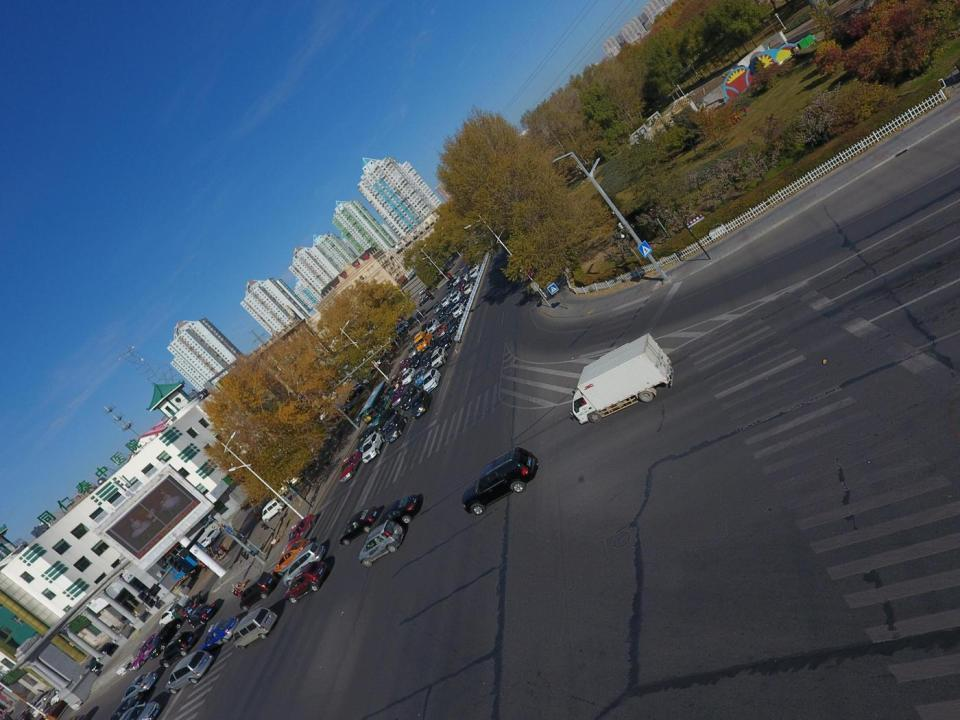bus: (359, 381, 396, 427), (414, 331, 432, 354)
car: (462, 447, 539, 516), (359, 520, 406, 567), (284, 562, 328, 604), (375, 495, 421, 534), (200, 617, 240, 654), (148, 618, 183, 660), (340, 507, 379, 544), (159, 630, 198, 667), (274, 538, 309, 576), (119, 672, 158, 703), (130, 634, 162, 671), (285, 514, 318, 548), (107, 695, 145, 720), (89, 642, 117, 675), (118, 701, 162, 720), (339, 451, 363, 483), (410, 390, 433, 420), (385, 412, 406, 444), (363, 433, 384, 464), (189, 603, 216, 627), (33, 690, 57, 716), (355, 426, 375, 454), (200, 526, 225, 548), (421, 367, 442, 393), (159, 603, 181, 627), (183, 593, 204, 618), (365, 344, 391, 364), (378, 408, 398, 433), (400, 385, 420, 410), (309, 432, 335, 451), (330, 403, 354, 423), (51, 682, 70, 704), (430, 346, 448, 368), (344, 384, 364, 402), (18, 703, 39, 720), (318, 422, 340, 438), (432, 347, 448, 368), (240, 496, 260, 511), (352, 376, 372, 391), (414, 366, 429, 385), (439, 332, 452, 350), (399, 356, 412, 373), (319, 405, 332, 421), (402, 368, 415, 384), (390, 372, 403, 388), (452, 302, 465, 318), (430, 337, 442, 354), (412, 350, 424, 367), (392, 388, 404, 404), (436, 322, 448, 338), (427, 318, 438, 335), (418, 294, 432, 307), (446, 318, 458, 332), (408, 342, 418, 358), (459, 293, 471, 306), (439, 314, 451, 327), (451, 291, 462, 304), (432, 302, 444, 313), (419, 284, 431, 295), (446, 300, 455, 314), (437, 307, 448, 318), (421, 322, 430, 332), (441, 296, 450, 306), (464, 284, 472, 295), (458, 279, 466, 290), (446, 288, 454, 299), (445, 278, 453, 288), (452, 276, 460, 286), (470, 269, 478, 278), (472, 262, 480, 271), (460, 273, 468, 281), (467, 278, 475, 285)
truck: (572, 332, 677, 425), (160, 538, 206, 585)
van: (165, 649, 212, 695), (232, 607, 278, 651), (283, 542, 325, 586), (239, 570, 276, 611), (262, 496, 288, 523), (277, 469, 302, 494), (386, 322, 408, 338)
